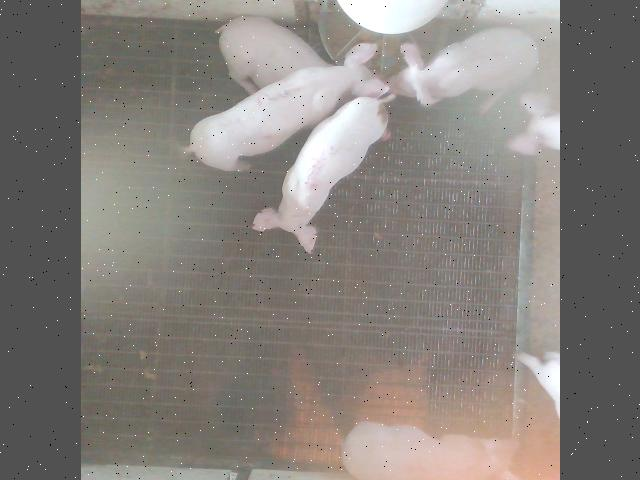pig-3: (185, 44, 388, 171)
pig-4: (341, 422, 518, 480)
pig-5: (251, 98, 392, 254)
